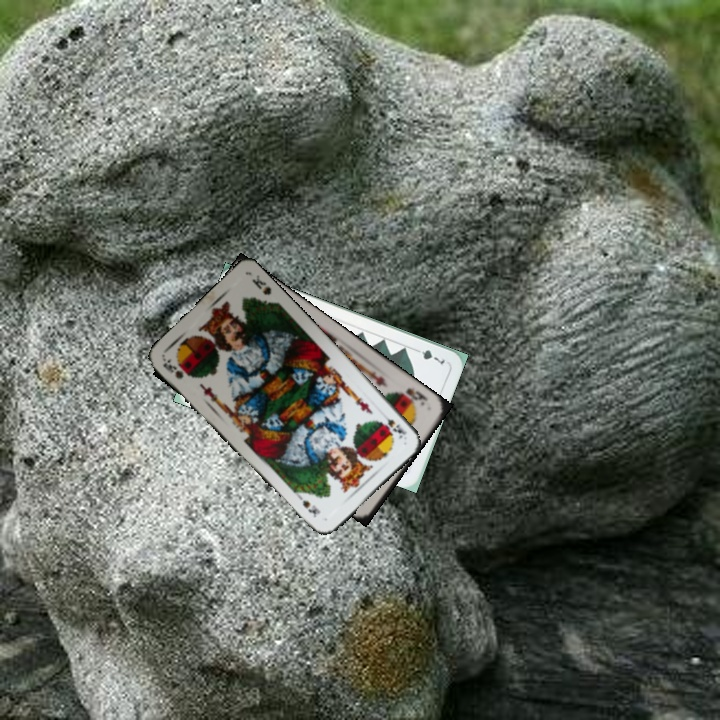G7: (410, 344, 448, 367)
SK: (378, 408, 409, 442), (393, 383, 430, 409), (158, 354, 192, 382)
